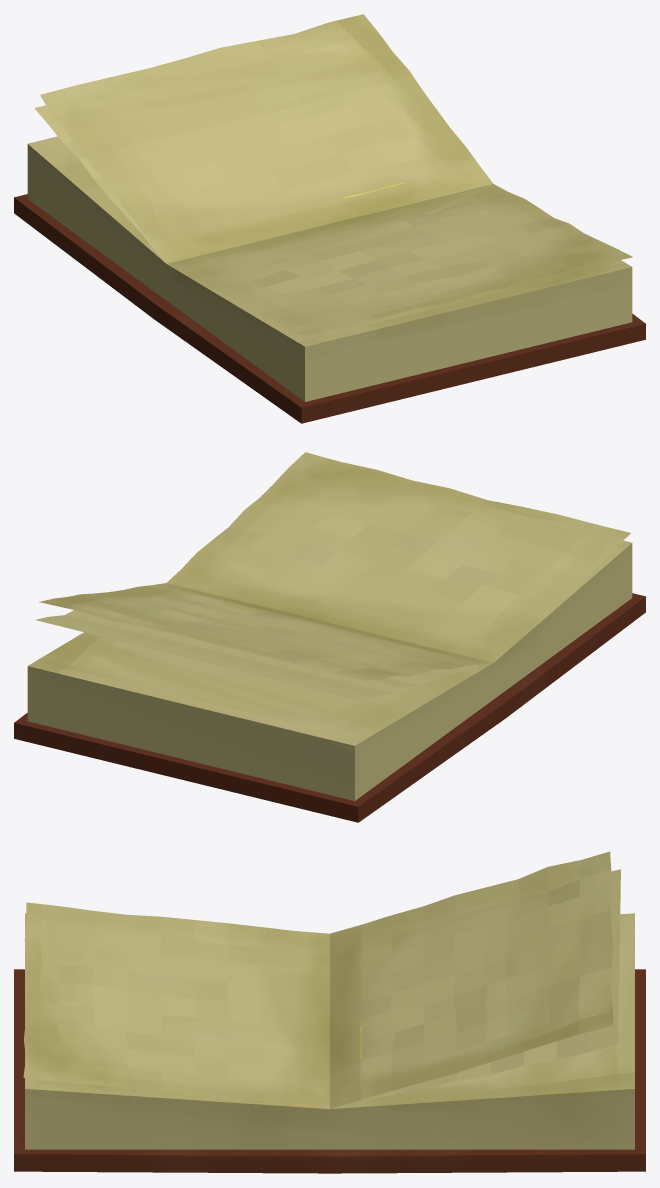
The model's file is book.fbx.
3 views of the same model, one above another, from view 1: azimuth 30°, elevation 25°; view 2: azimuth 150°, elevation 25°; view 3: azimuth 270°, elevation 25° (orthographic). The views are drawn at different scales.
Visible parts, largest first — view 1: Cube; view 2: Cube; view 3: Cube.
Boxes of the visible parts, x1,y1,x2,y2 form: Cube: (14,14,645,423); Cube: (14,452,645,822); Cube: (14,851,645,1173).
Size of the model in its own units: 23.89 by 8.42 by 33.83.
